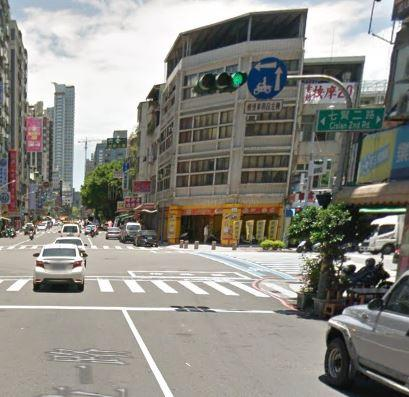green_traffic_light: (192, 71, 245, 94)
